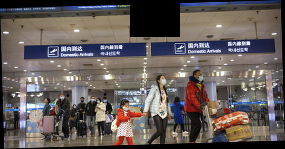mask_weared_incorrect: (122, 104, 130, 112)
with_mask: (197, 72, 205, 82), (160, 77, 168, 86), (60, 95, 66, 101), (91, 97, 96, 103), (80, 98, 85, 103), (96, 99, 101, 104), (103, 99, 108, 103), (73, 105, 77, 109)
without_mask: (44, 98, 48, 104)
